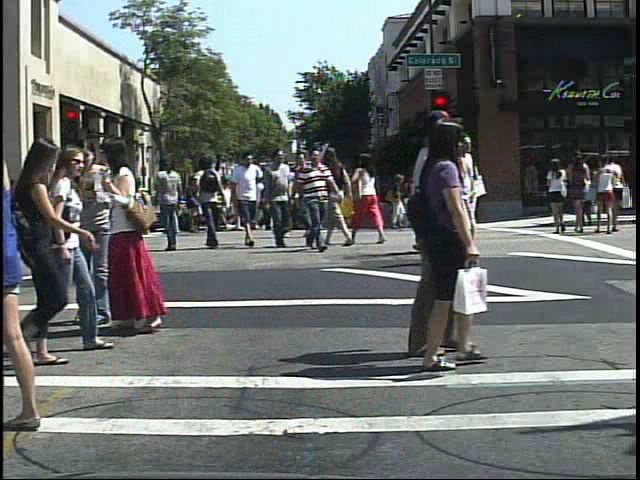person: (378, 114, 504, 380), (101, 133, 197, 343), (48, 140, 119, 353), (413, 104, 465, 365), (71, 135, 115, 336), (437, 128, 490, 260), (416, 131, 461, 261), (288, 143, 337, 255), (449, 134, 488, 258), (259, 143, 297, 253), (349, 146, 388, 248), (229, 148, 265, 254), (152, 154, 188, 255), (325, 141, 357, 248), (193, 154, 227, 251), (545, 153, 572, 237), (206, 169, 226, 238), (65, 182, 85, 232)
